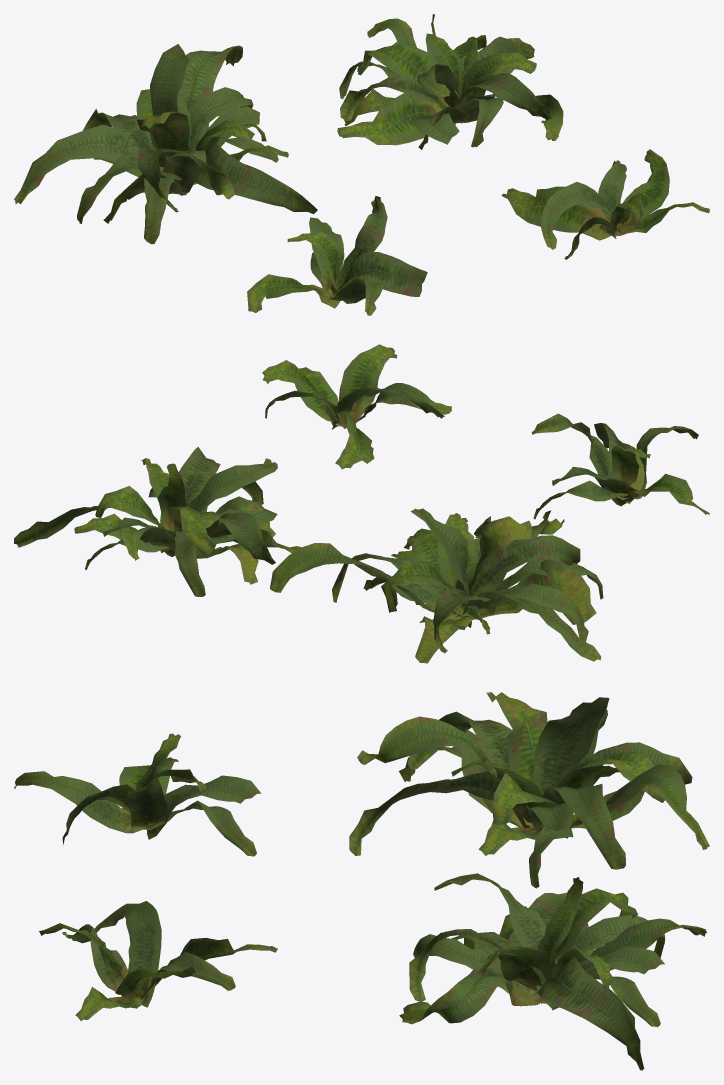
Rendered from fern_02.glb.
3 views of the same model, one above another, from view 1: azimuth 30°, elevation 25°; view 2: azimuth 150°, elevation 25°; view 3: azimuth 270°, elevation 25° (orthographic). The views are drawn at different scales.
Parts seen in each view (by area): view 1: fern_02_b, fern_02_c, fern_02_d, fern_02_a; view 2: fern_02_b, fern_02_c, fern_02_d, fern_02_a; view 3: fern_02_b, fern_02_c, fern_02_a, fern_02_d.
Part boxes in pixels (x1,y1,x2,y2): fern_02_b: (14,44,317,244); fern_02_c: (337,14,563,149); fern_02_d: (501,149,709,259); fern_02_a: (247,196,427,315); fern_02_b: (270,508,603,663); fern_02_c: (14,447,300,596); fern_02_d: (262,344,451,469); fern_02_a: (531,413,709,519); fern_02_b: (349,692,709,888); fern_02_c: (399,873,707,1070); fern_02_a: (14,733,261,856); fern_02_d: (39,901,277,1020).
Size of the model in its own units: 1.97 by 0.4277 by 1.72.
Materials: 1 (1 with a texture image).
